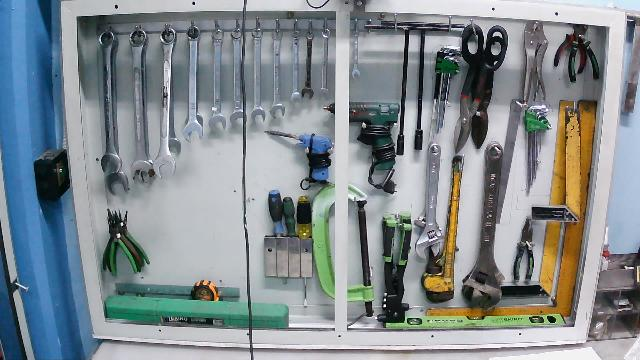kunci_l_bintang: (522, 102, 554, 197)
